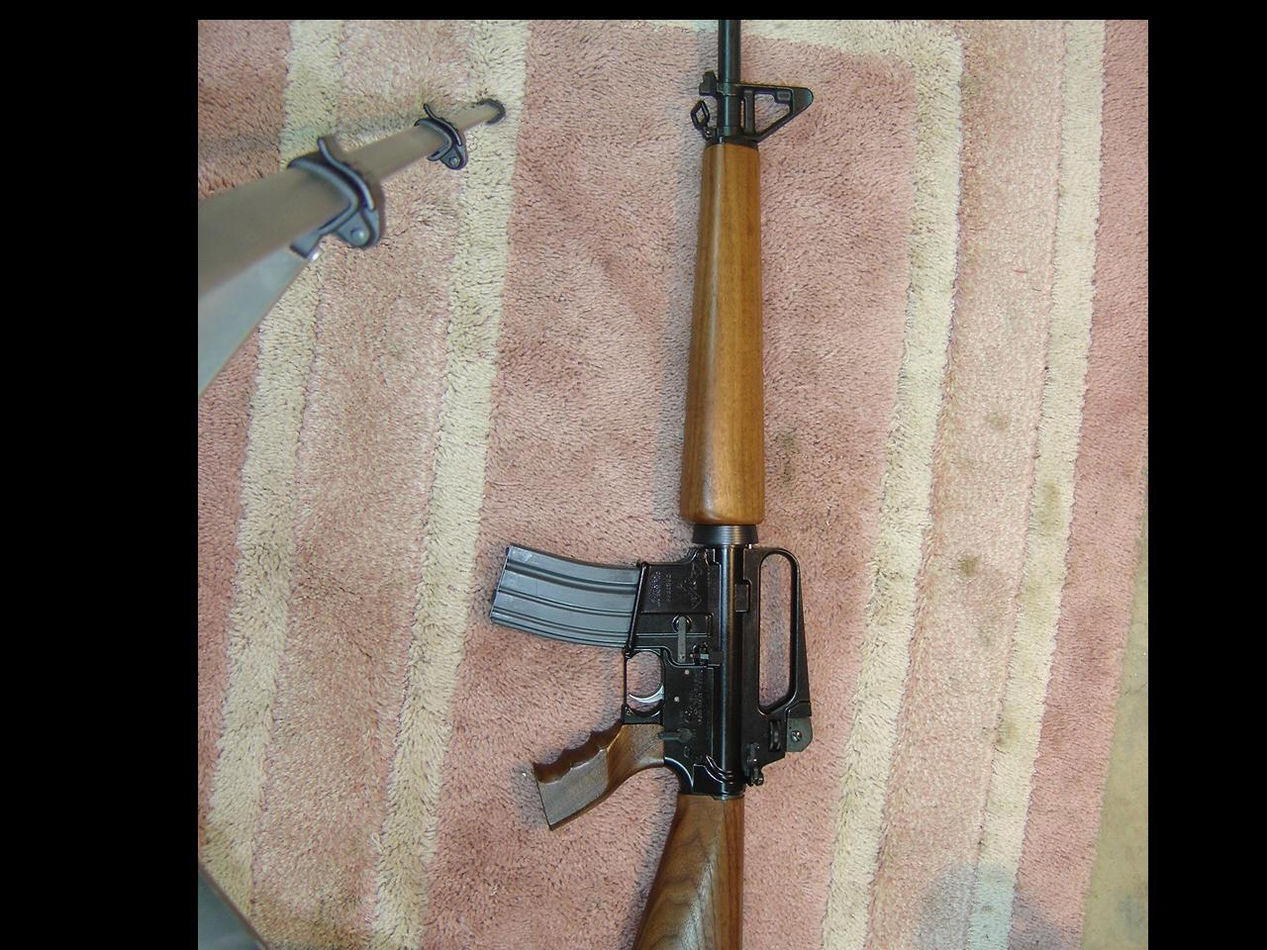larga: (484, 20, 816, 950)
